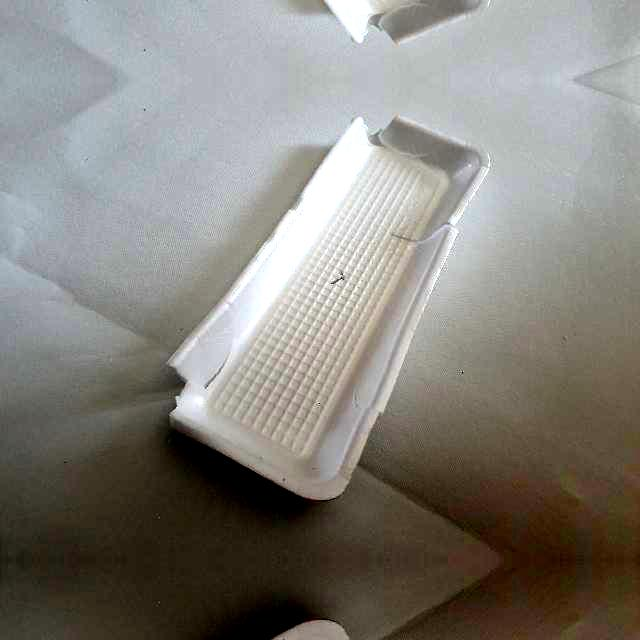Styrofoam: (166, 114, 494, 502), (168, 117, 490, 500)
